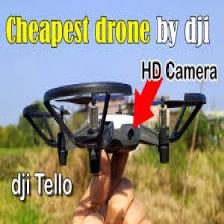drone: (22, 82, 207, 168)
